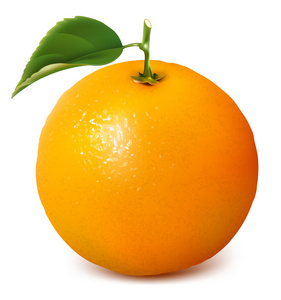orange: (35, 60, 259, 276)
